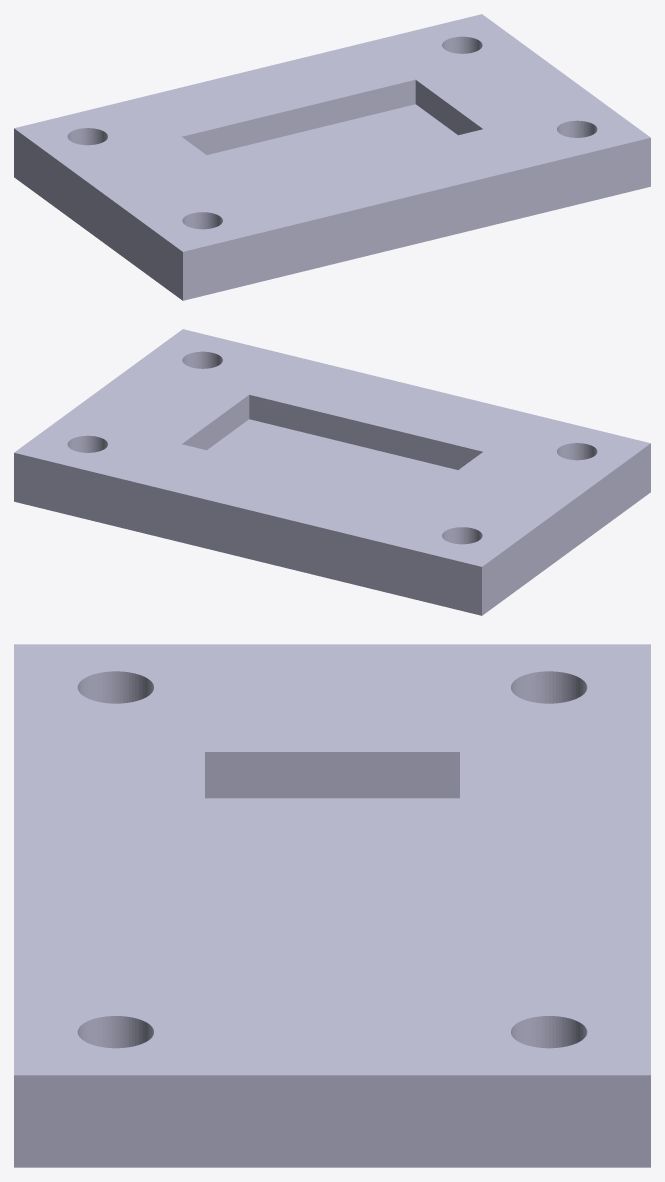
File: freecad-bracket.dae
The picture shows the model from 3 angles, top to bottom: view 1: azimuth 30°, elevation 25°; view 2: azimuth 150°, elevation 25°; view 3: azimuth 270°, elevation 25°; orthographic projection. The views are drawn at different scales.
Visible parts, largest first — view 1: node0; view 2: node0; view 3: node0.
Part boxes in pixels (x1,y1,x2,y2): node0: (14, 14, 650, 300); node0: (14, 329, 650, 615); node0: (14, 644, 650, 1167).
Bounding box in the file's own units: 0.08 × 0.05 × 0.008.
